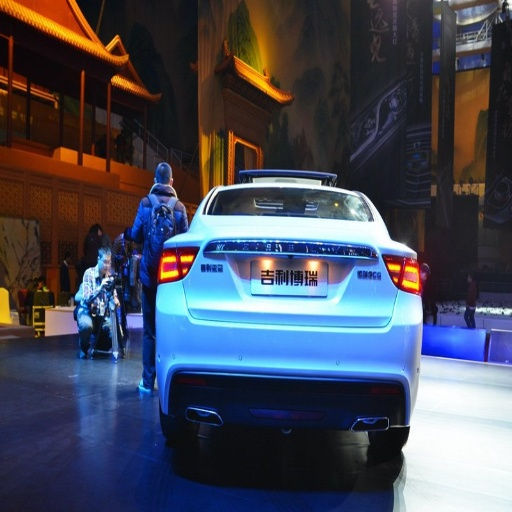back_bumper: (138, 282, 418, 429)
tailgate: (231, 216, 401, 324)
